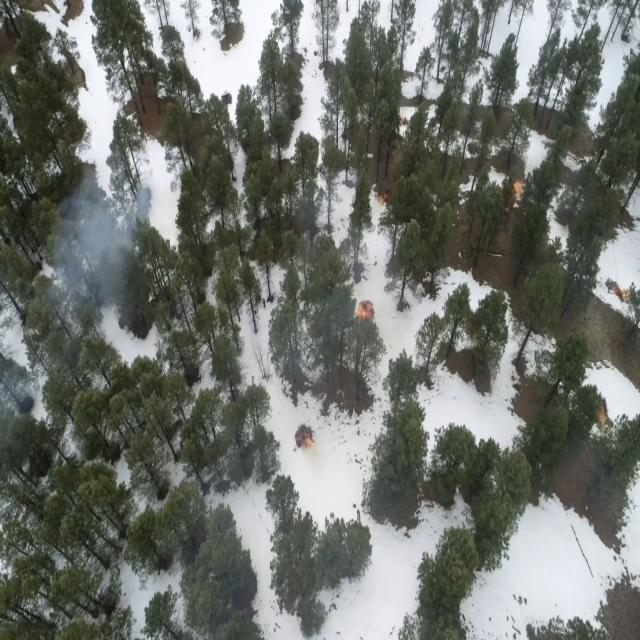Fire: (358, 300, 377, 324), (301, 432, 320, 454)
